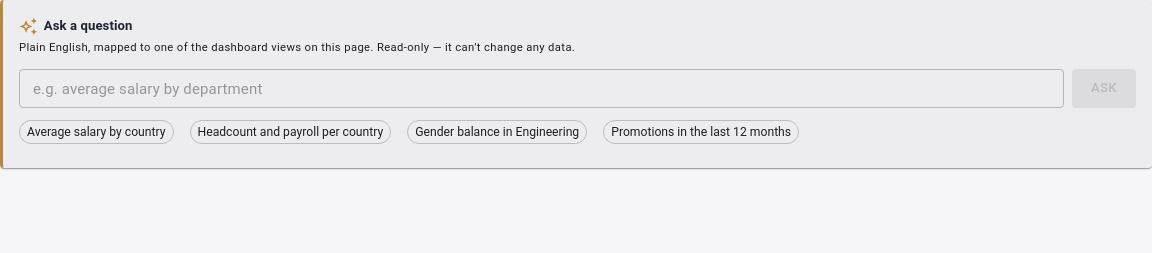
it: NLQueryBox › renders the fixed refusal for an out-of-scope question, with no table
The image size is (1152, 253).
Type "weather?" into the field named "Analytics question".
click(542, 89); type("weather?")  # box left=19, top=69, right=1064, bottom=108
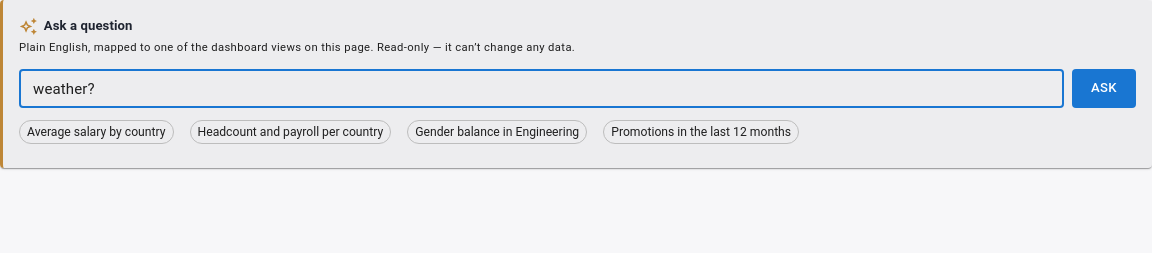
Click the button "Ask".
click(1104, 89)  # box left=1072, top=69, right=1136, bottom=108
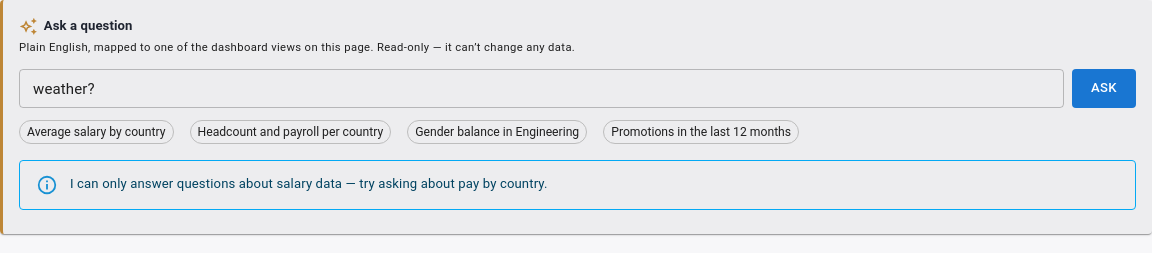
Now the text "I can only answer questions about salary data" is shown, box left=70, top=176, right=548, bottom=191
